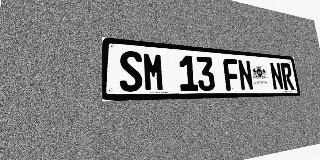1: (178, 55, 198, 91)
3: (196, 56, 215, 91)
F: (223, 58, 241, 91)
M: (142, 52, 165, 91)
N: (237, 59, 254, 91), (269, 62, 284, 90)
R: (280, 63, 295, 90)
S: (119, 50, 143, 92)
